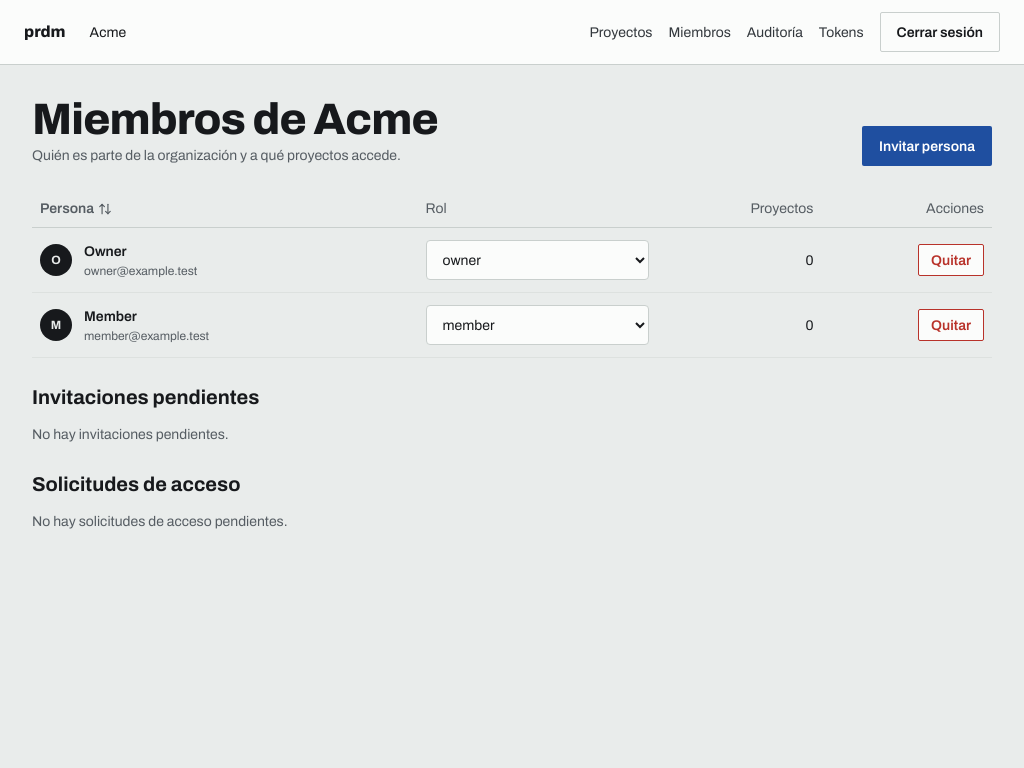
OrgMembersSettings › an admin (not owner) cannot invite a new owner
Click the button "Invitar persona". click: (927, 146)
box: [862, 126, 992, 166]
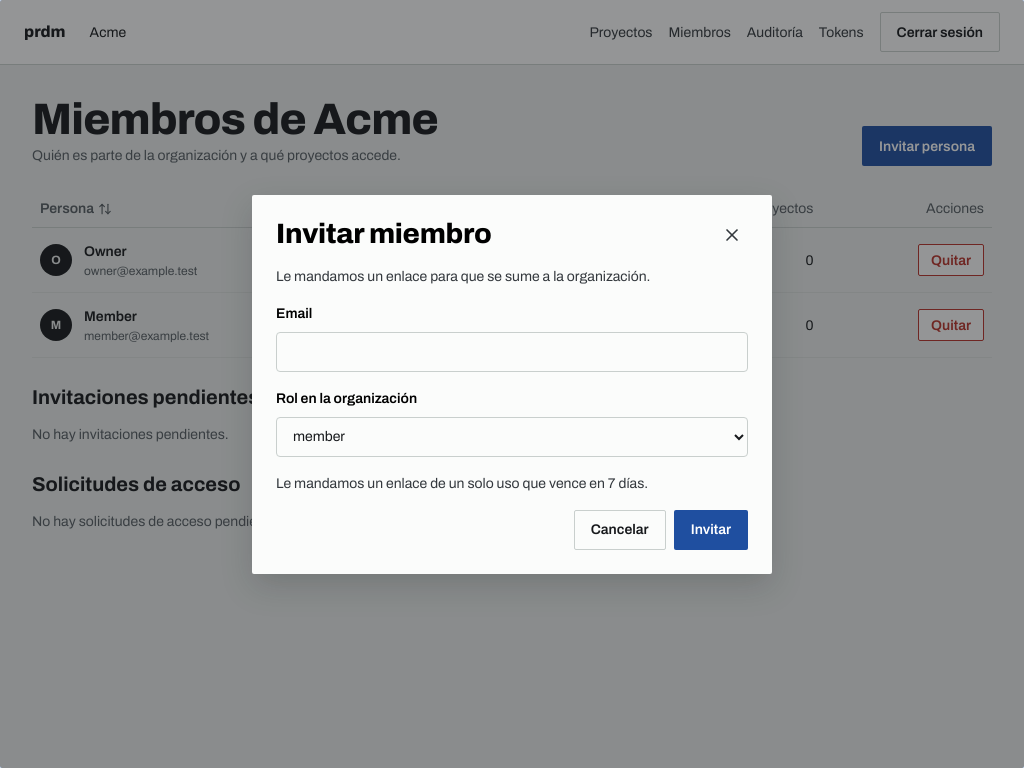
Now the heading "Invitar miembro" is shown, box [276, 218, 491, 249]
